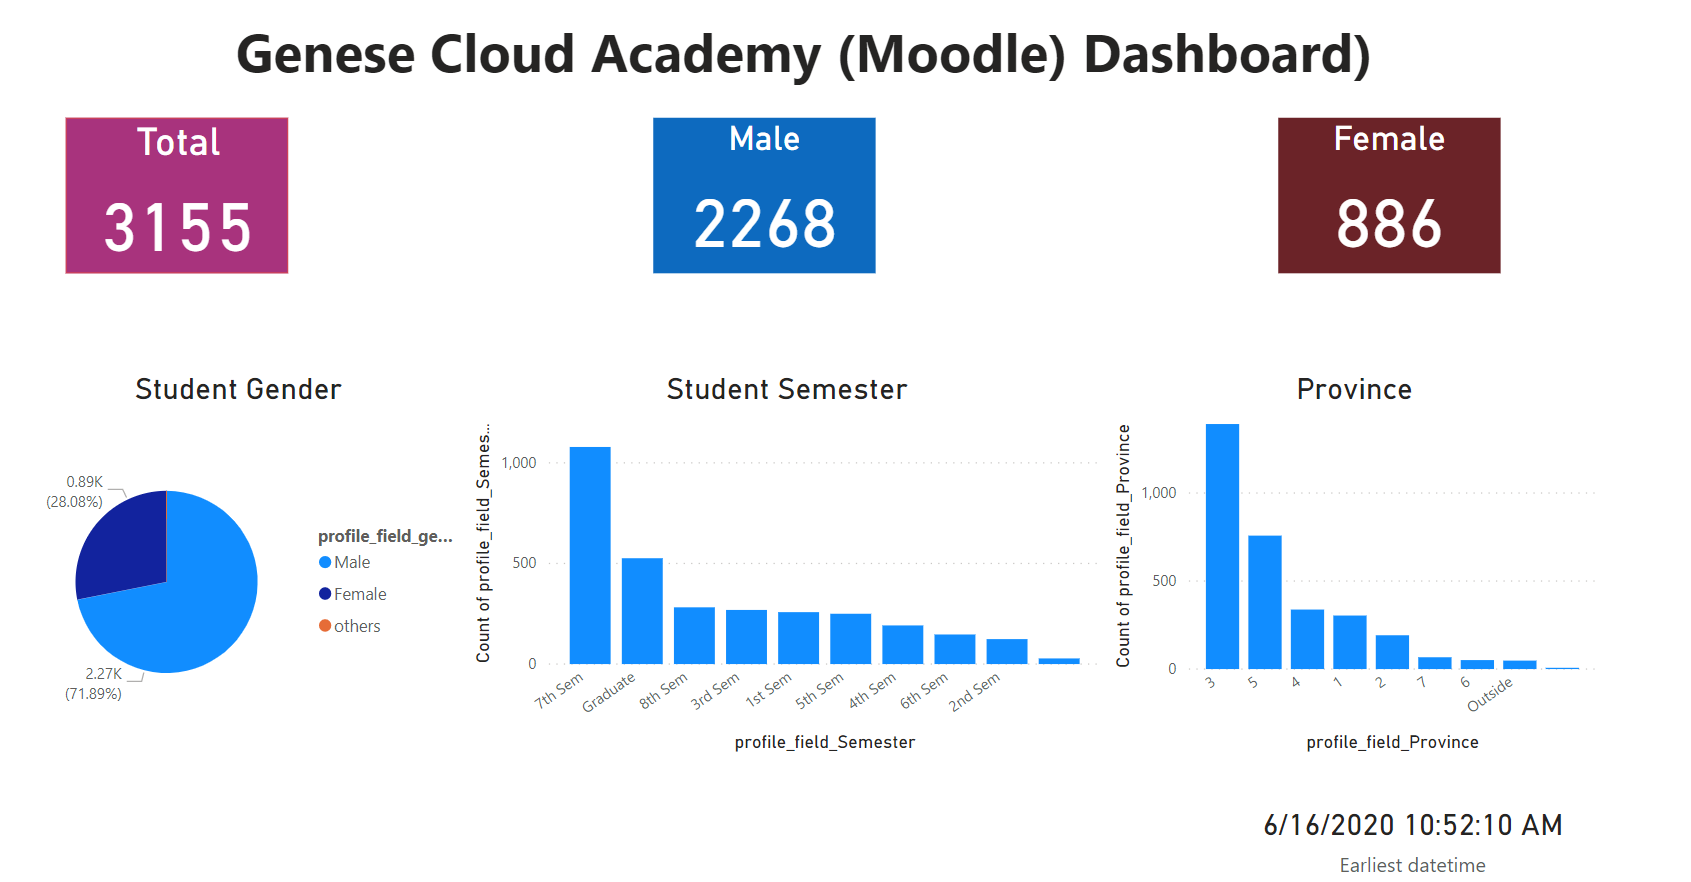

The page's visual inventory and layout, read from the dashboard file:
{"tool":"powerbi","page":{"name":"Dashboard","canvas":[1280,720],"ordinal":0},"visuals":[{"type":"pieChart","title":"Student Gender","fields":{"Category":["user_latest.profile_field_gender1"],"Series":["user_latest.profile_field_gender1"],"Y":["CountNonNull(user_latest.profile_field_gender)"]},"box":[2.1,303.2,367.2,310.5],"z":0},{"type":"columnChart","title":"Student Semester","fields":{"Category":["user_latest.profile_field_Semester1"],"Y":["CountNonNull(user_latest.profile_field_Semester)1"]},"box":[369.4,303.2,513.4,310.5],"z":1000},{"type":"columnChart","title":"Province","fields":{"Category":["user_latest.profile_field_Province1"],"Y":["CountNonNull(user_latest.profile_field_Province)1"]},"box":[882.3,302.7,397.4,310.5],"z":2000},{"type":"card","title":"Total","fields":{"Values":["CountNonNull(user_latest.id)"]},"box":[47.1,98.8,178.8,124.4],"z":3000},{"type":"card","title":"Male","fields":{"Values":["CountNonNull(user_latest.profile_field_gender)"]},"box":[518.2,98.8,178.8,124.4],"z":4000},{"type":"card","title":"Female","fields":{"Values":["CountNonNull(user_latest.profile_field_gender)"]},"box":[1019.5,98.8,178.8,124.4],"z":5000},{"type":"textbox","box":[0,10.9,1279.3,72.5],"z":6000},{"type":"card","fields":{"Values":["Min(Kathmandu.datetime)"]},"box":[994.2,641.5,268.2,68.9],"z":7000}]}

Visuals, with their boxes on the page's 1280x720 design canvas (x1, y1, x2, y2). These are canvas units, not pixel positions in the 1691x882 screenshot, which may show the page scaled, cropped or inside an application window:
"Student Gender" pieChart: 2:303:369:614
"Student Semester" columnChart: 369:303:883:614
"Province" columnChart: 882:303:1280:613
"Total" card: 47:99:226:223
"Male" card: 518:99:697:223
"Female" card: 1020:99:1198:223
textbox: 0:11:1279:83
card - Min(Kathmandu.datetime): 994:642:1262:710
